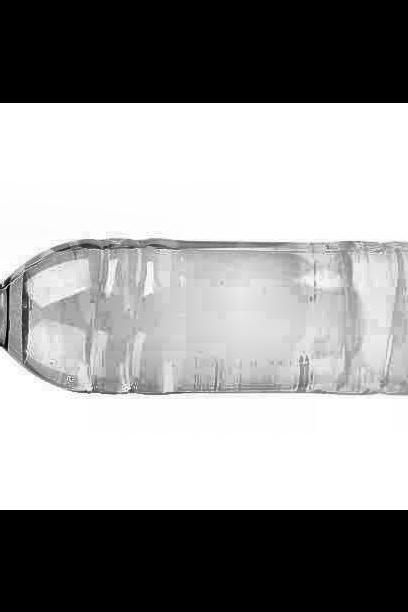waterbottle: (0, 189, 408, 450)
